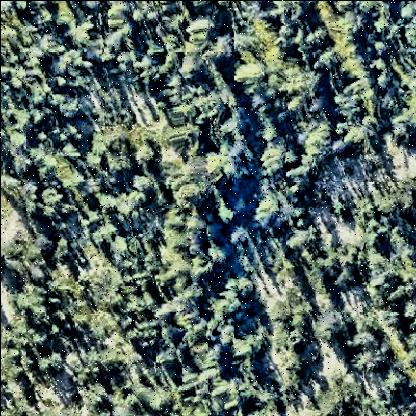tree-top: (212, 278, 258, 324), (273, 339, 313, 381), (253, 141, 292, 178), (229, 329, 268, 366), (347, 344, 384, 378), (186, 15, 224, 47), (249, 197, 283, 230), (234, 59, 269, 91), (169, 177, 201, 211), (347, 328, 380, 358), (318, 316, 346, 348), (381, 368, 409, 399), (224, 224, 254, 252), (185, 259, 217, 284), (392, 112, 416, 144), (37, 187, 63, 213), (132, 144, 157, 170), (9, 153, 33, 179), (4, 130, 30, 154), (38, 353, 64, 377), (50, 238, 74, 263), (332, 267, 354, 293), (94, 190, 120, 212), (342, 126, 364, 151), (57, 97, 78, 119), (33, 7, 56, 27), (216, 206, 236, 227), (130, 175, 153, 193), (402, 299, 416, 325), (373, 72, 392, 91), (372, 39, 390, 57), (32, 105, 48, 125), (371, 20, 391, 36), (153, 353, 172, 369), (14, 1, 34, 15)
